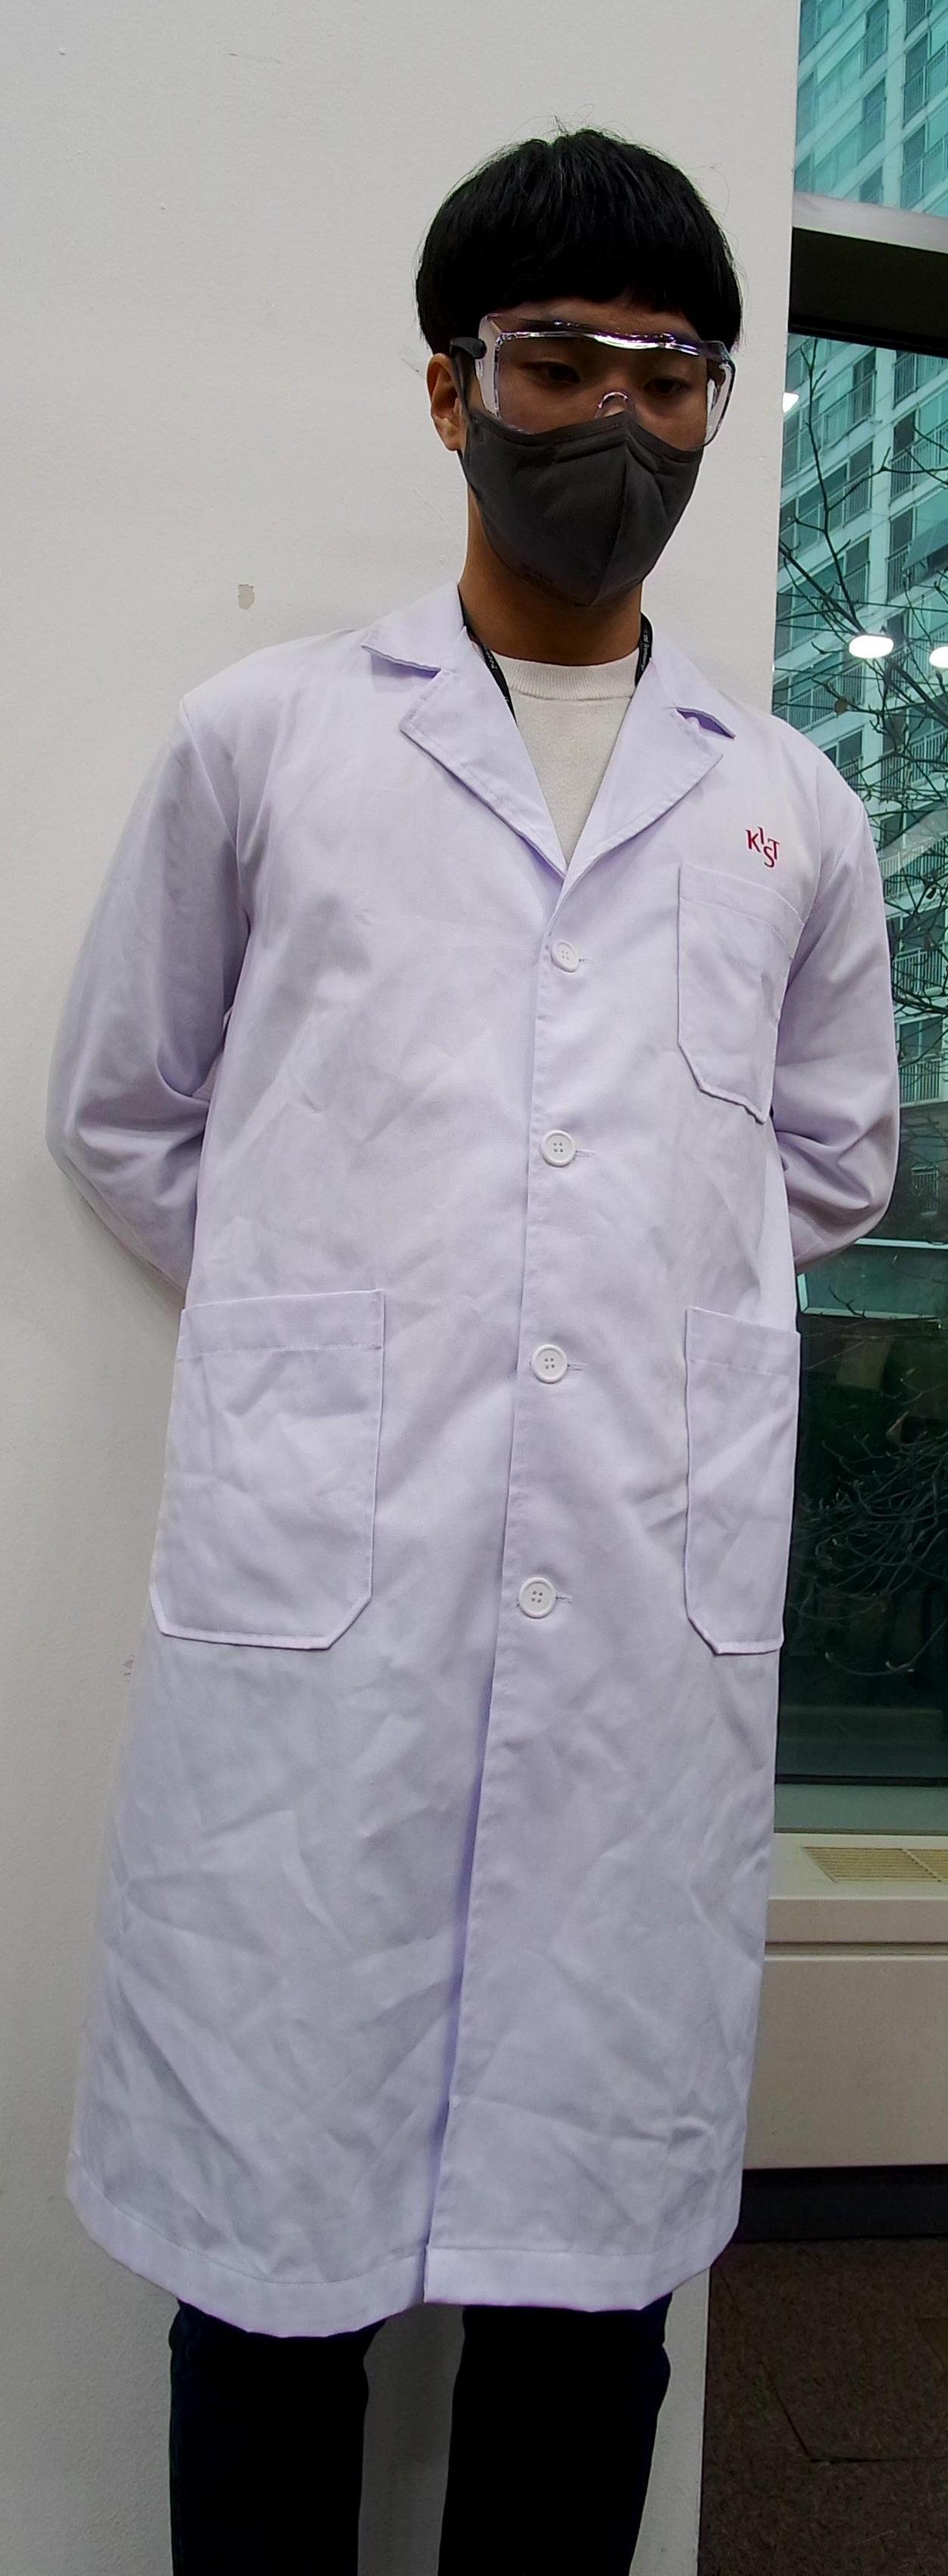lab_coat: (44, 706, 864, 2247)
